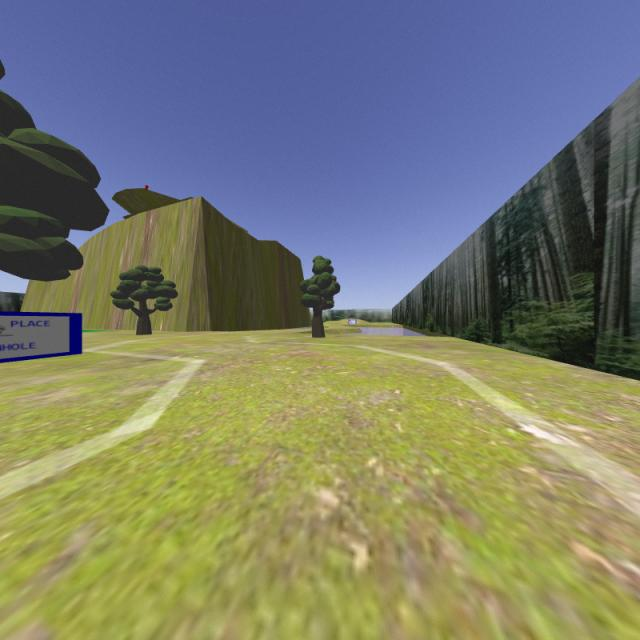clueboard: (0, 308, 87, 365)
